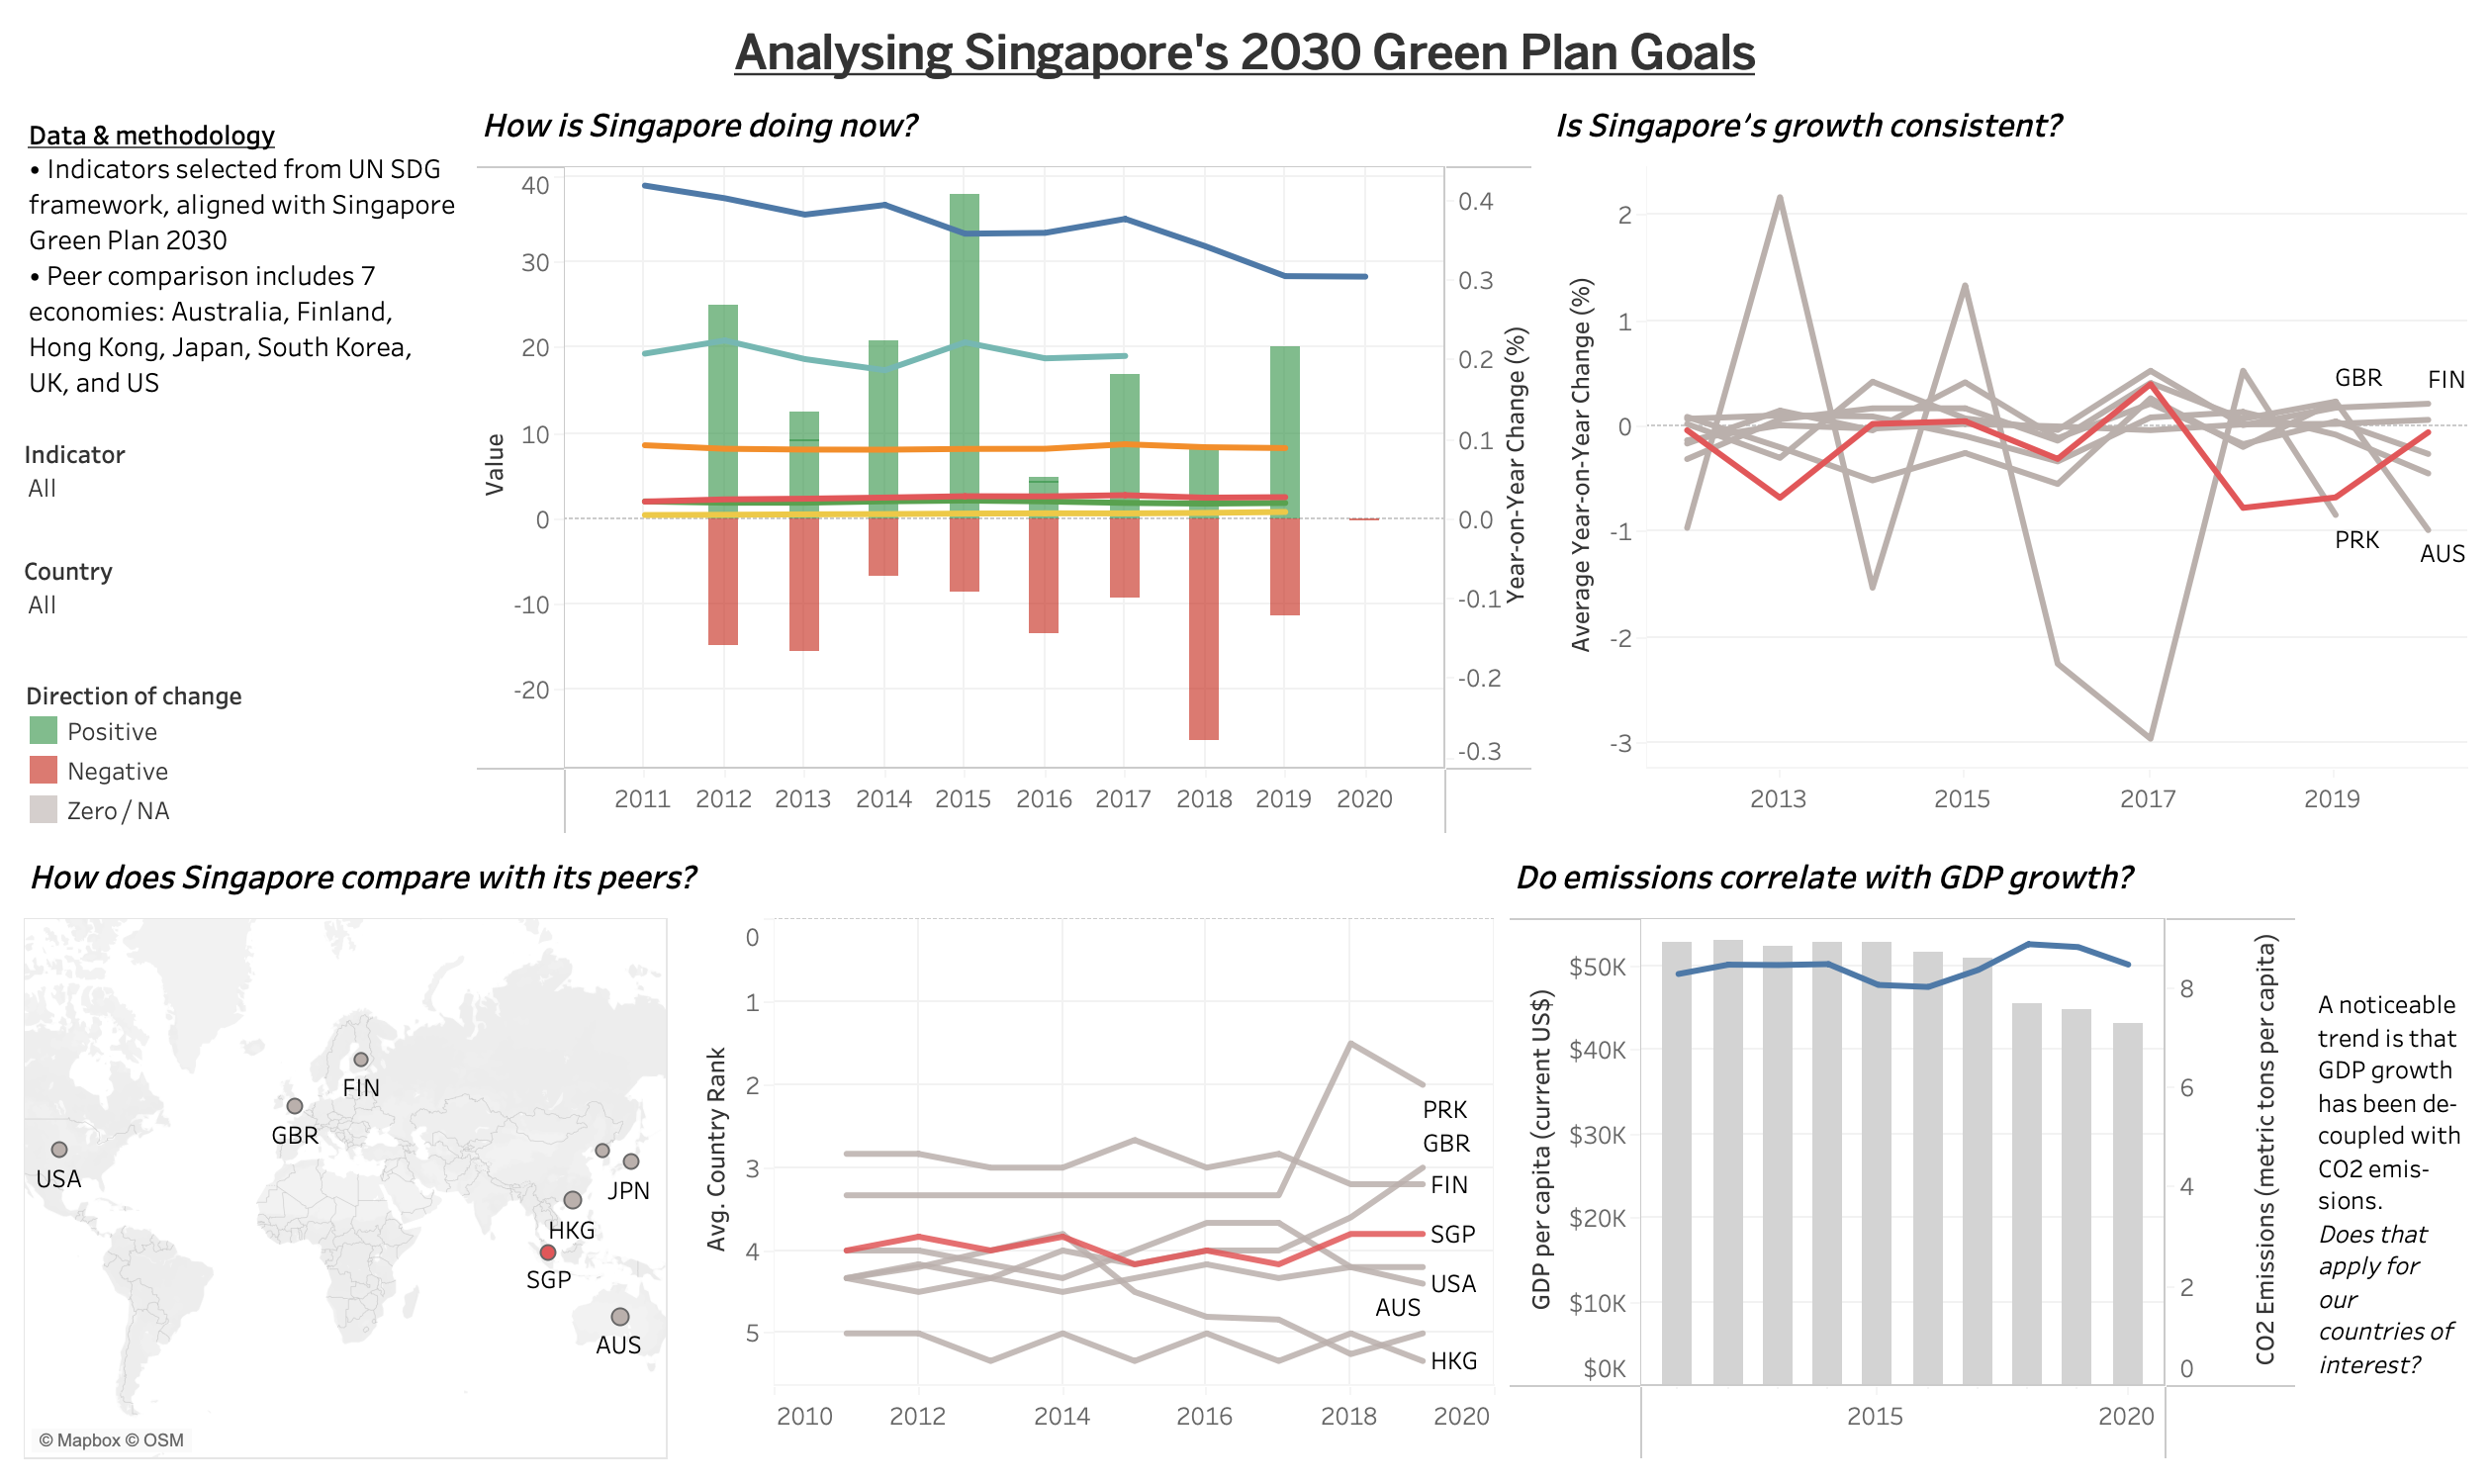

Layout of this report page (visuals, bound fields, positions):
{"tool":"tableau","page":{"name":"Analysing Singapore's 2030 Green Plan Goals","canvas":[1000,1000],"units":"permille","ordinal":0},"visuals":[{"type":"title","box":[6.4,10.7,987.3,49.3]},{"type":"text","box":[6.4,60,181.9,228]},{"type":"text","box":[188.2,60,430.5,46.9]},{"type":"text","box":[618.8,60,374.9,46.9]},{"type":"worksheet","title":"Singapore's Performance","mark":"Automatic","rows":["value (Singapore SQL Results.csv)","yoy_pct_change"],"cols":["year (Singapore SQL Results.csv)"],"box":[188.2,106.9,430.5,461.3]},{"type":"worksheet","title":"Year-on-Year Change (%)","mark":"Automatic","rows":["yoy_change (YOY Change Comparison SQL.csv)"],"cols":["year (YOY Change Comparison SQL.csv)"],"box":[618.8,106.9,374.9,461.3]},{"type":"filter","title":"Singapore's Performance","param":"[federated.1109o9e03uersr1d3k8i60hd6qlu].[none:series_name (sdg_long_clean.csv):","box":[6.4,288,181.9,79.1]},{"type":"filter","title":"Emissions v.s. GDP growth","param":"[federated.1109o9e03uersr1d3k8i60hd6qlu].[none:country_name (gdp_long_clean.csv)","box":[6.4,367.1,181.9,81.8]},{"type":"legend","title":"Singapore's Performance","param":"[federated.1109o9e03uersr1d3k8i60hd6qlu].[usr:Calculation_3352305264541696:nk]","box":[6.4,448.9,181.9,119.4]},{"type":"text","box":[830.8,561.3,160.4,97.3]},{"type":"text","box":[6.4,568.2,987.3,42.9]},{"type":"worksheet","title":"Map","mark":"Circle","box":[6.4,611.1,292.3,378.2]},{"type":"worksheet","title":"Rankings by Country","mark":"Automatic","rows":["country_rank"],"cols":["year"],"box":[298.7,611.1,340.8,378.2]},{"type":"worksheet","title":"Emissions v.s. GDP growth","mark":"Line","rows":["Calculation_3352305411543042","value (sdg_long_clean.csv)"],"cols":["year (gdp_long_clean.csv)"],"box":[639.5,611.1,354.2,378.2]}]}

Visuals, with their boxes on the dashboard's canvas, which has no fixed pixel size, in thousandths of its width and height (x1, y1, x2, y2). These are canvas units, not pixel positions in the 2491x1484 screenshot, which may show the page scaled, cropped or inside an application window:
title: (x1=6, y1=11, x2=994, y2=60)
text: (x1=6, y1=60, x2=188, y2=288)
text: (x1=188, y1=60, x2=619, y2=107)
text: (x1=619, y1=60, x2=994, y2=107)
"Singapore's Performance" worksheet: (x1=188, y1=107, x2=619, y2=568)
"Year-on-Year Change (%)" worksheet: (x1=619, y1=107, x2=994, y2=568)
"Singapore's Performance" filter: (x1=6, y1=288, x2=188, y2=367)
"Emissions v.s. GDP growth" filter: (x1=6, y1=367, x2=188, y2=449)
"Singapore's Performance" legend: (x1=6, y1=449, x2=188, y2=568)
text: (x1=831, y1=561, x2=991, y2=659)
text: (x1=6, y1=568, x2=994, y2=611)
"Map" worksheet (Circle marks): (x1=6, y1=611, x2=299, y2=989)
"Rankings by Country" worksheet: (x1=299, y1=611, x2=640, y2=989)
"Emissions v.s. GDP growth" worksheet (Line marks): (x1=640, y1=611, x2=994, y2=989)
